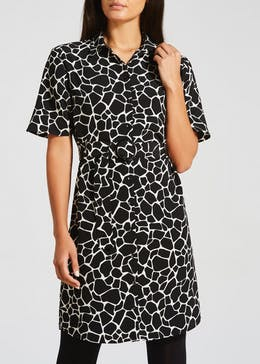C_dress: (23, 50, 212, 345)
